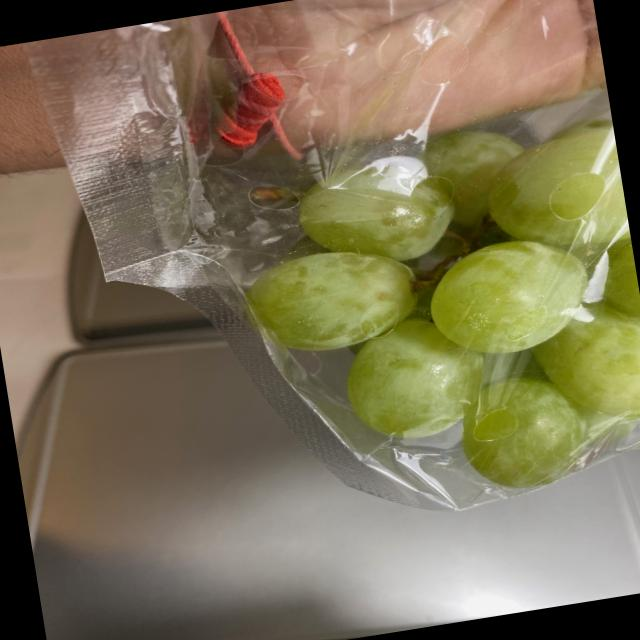grapes: (219, 106, 640, 544)
